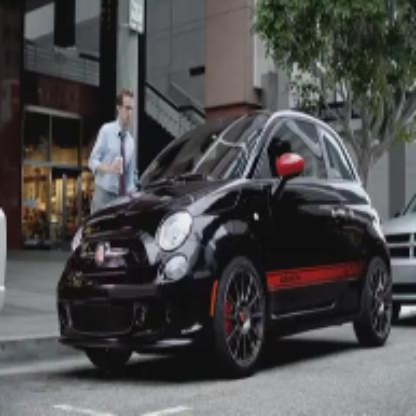Vehicle: (57, 108, 393, 378)
